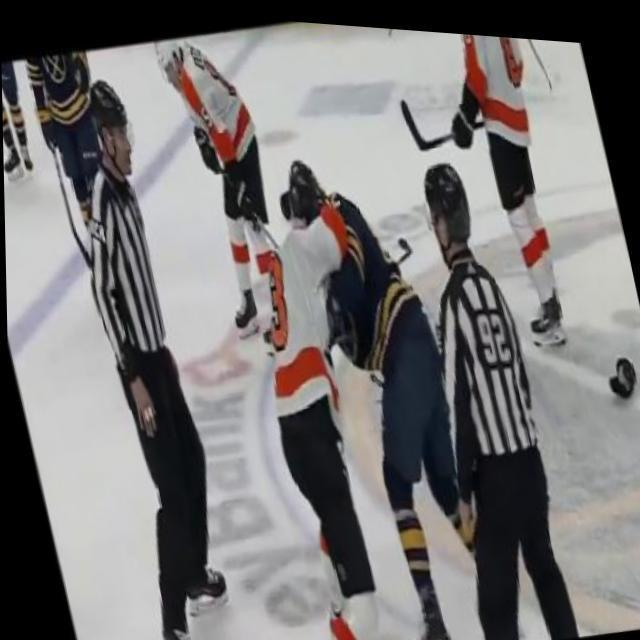fight: (210, 115, 507, 640)
